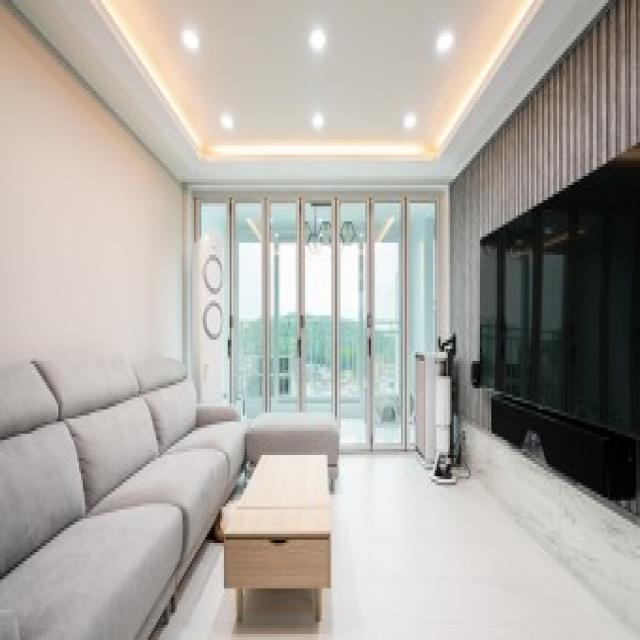Sofa: (2, 346, 216, 640)
Table: (224, 451, 332, 630)
tv: (478, 152, 640, 440)
